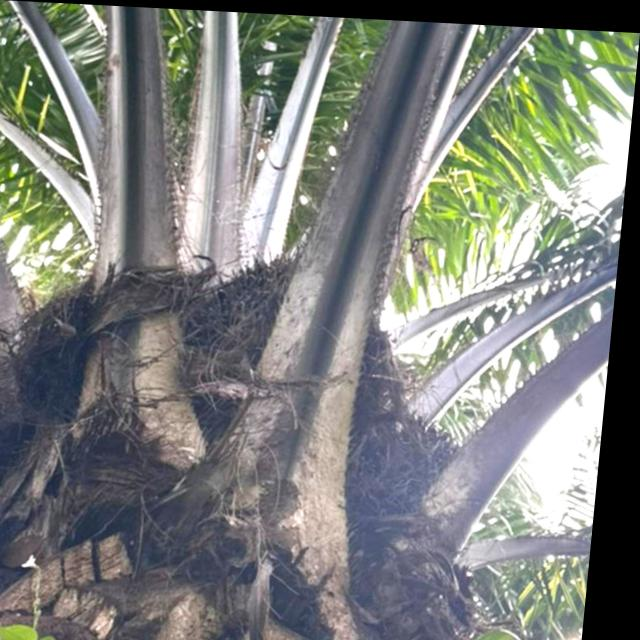almost: (176, 238, 414, 455)
